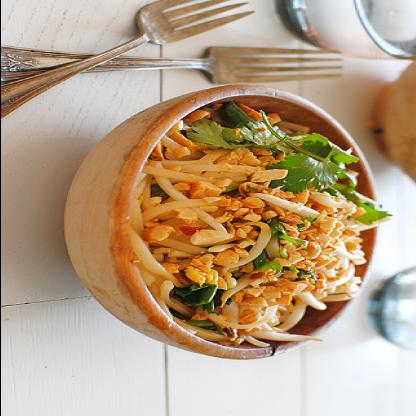Pad Thai: (81, 91, 378, 349)
